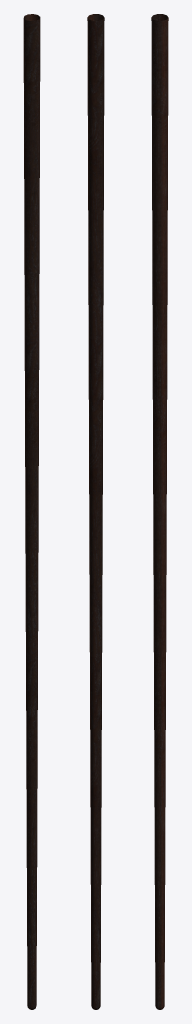
File: wm_rivendell_spear_a01_black_handle.fbx
3 renders of one model, left to right at view 1: azimuth 90°, elevation 25°; view 2: azimuth 150°, elevation 25°; view 3: azimuth 330°, elevation 25°, orthographic.
Visible parts, largest first — view 1: wm_rivendell_spear_a01_black_handle; view 2: wm_rivendell_spear_a01_black_handle; view 3: wm_rivendell_spear_a01_black_handle.
Part boxes in pixels (x1,y1,x2,y2): wm_rivendell_spear_a01_black_handle: [23, 14, 40, 1009]; wm_rivendell_spear_a01_black_handle: [87, 14, 104, 1009]; wm_rivendell_spear_a01_black_handle: [151, 14, 168, 1009].
Bounding box in the file's own units: 0.0323 × 0.0321 × 2.09.
Materials: 1 (1 with a texture image).
